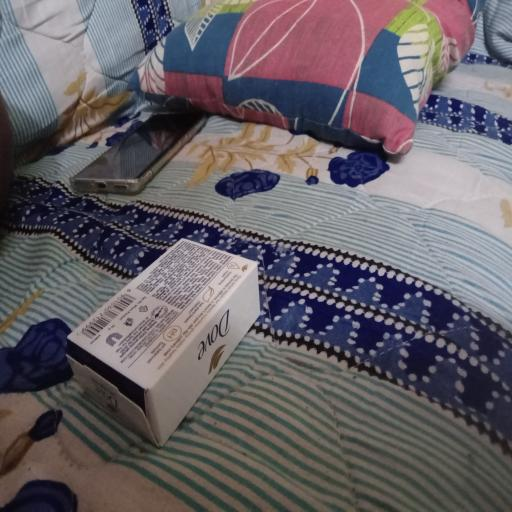Dove`1: (46, 196, 287, 450)
